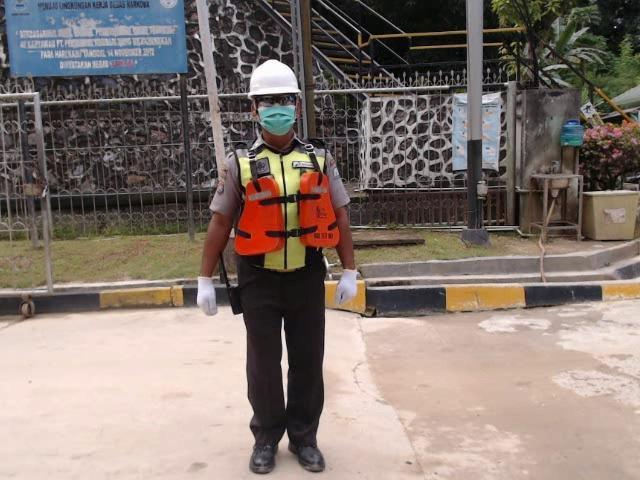vest: (233, 170, 343, 255)
